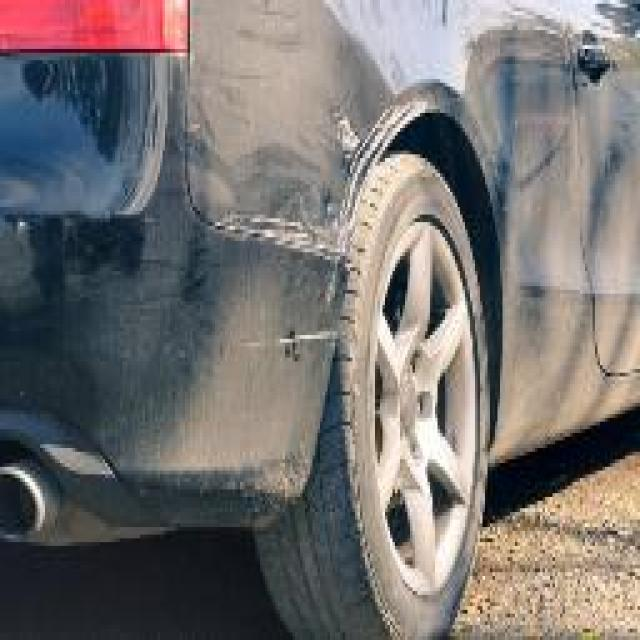Fender: (188, 0, 412, 211)
